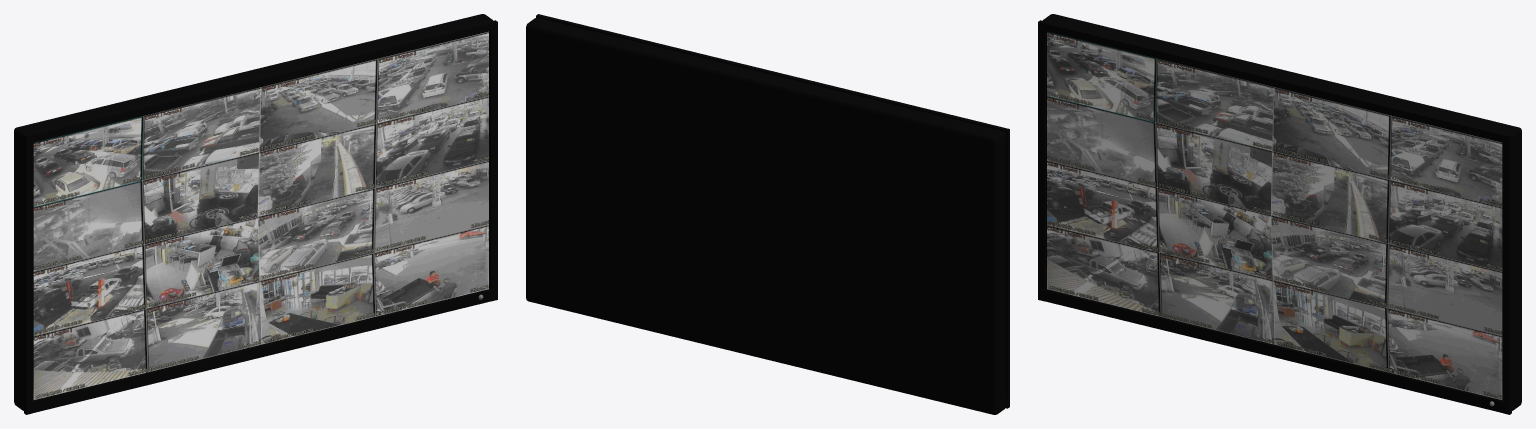
3 views of the same model, side by side, from view 1: azimuth 30°, elevation 25°; view 2: azimuth 150°, elevation 25°; view 3: azimuth 330°, elevation 25° (orthographic).
Parts seen in each view (by area): view 1: TV; view 2: TV; view 3: TV.
Part boxes in pixels (x1,y1,x2,y2): TV: (14,14,497,414); TV: (526,14,1009,414); TV: (1038,14,1521,414).
Size of the model in its own units: 122 by 69 by 6.8.
3 materials, 1 textured.
